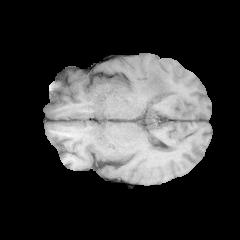glioma: (140, 65, 171, 101)
